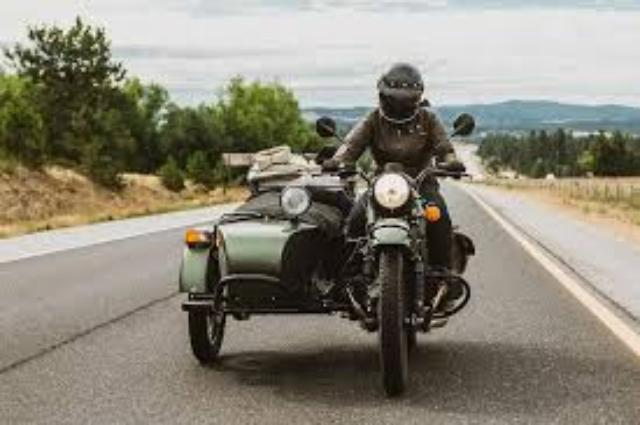helm: (374, 58, 430, 127)
motor: (177, 116, 480, 402)
